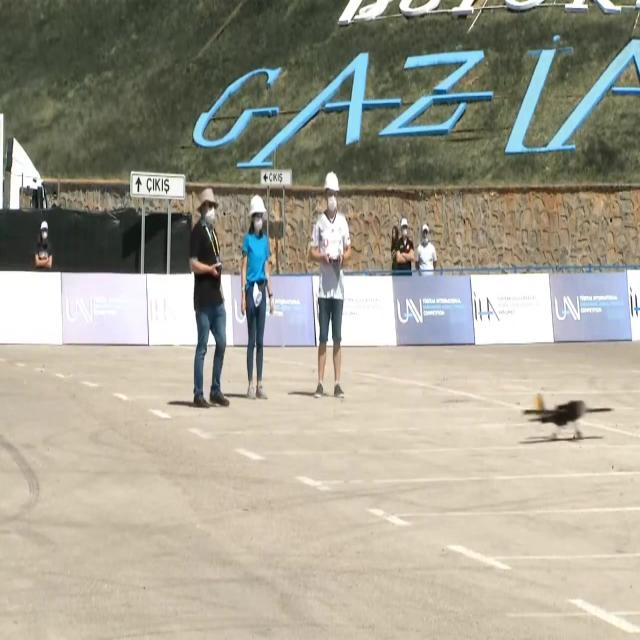iha: (551, 391, 583, 444)
